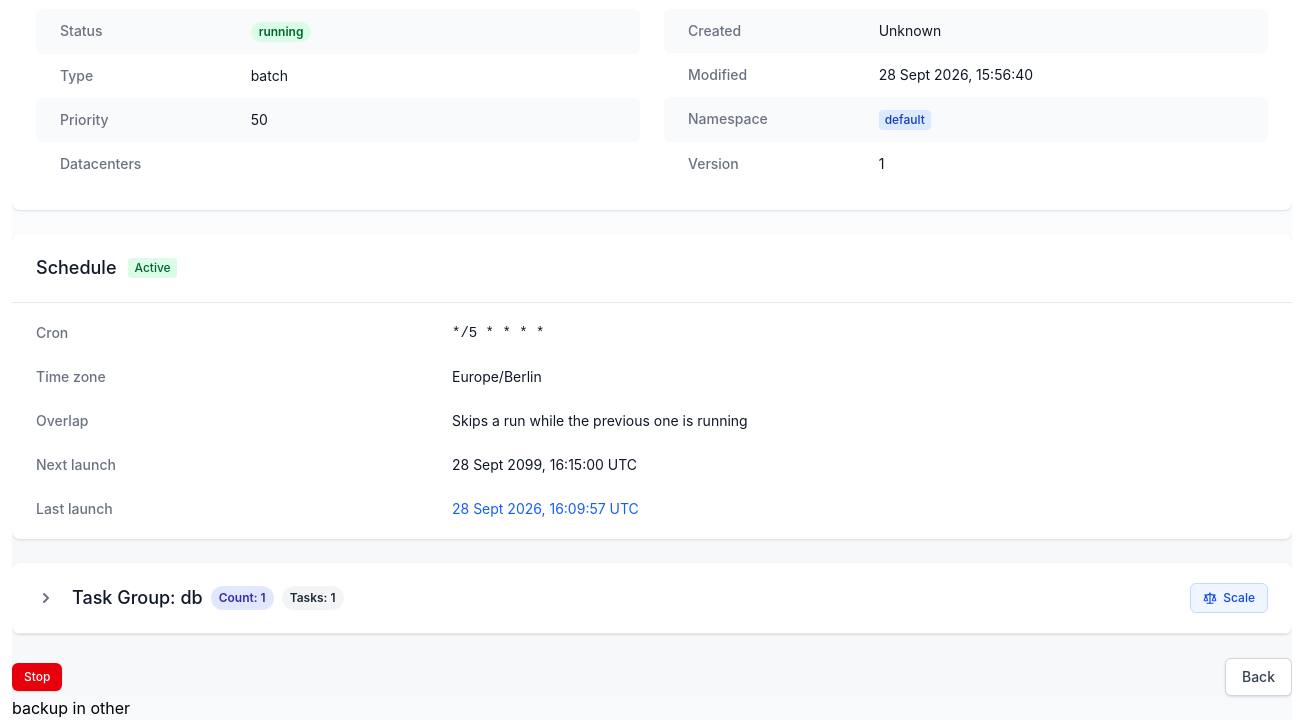
it: JobDetailPage for a periodic job › opening a job with the same ID in another namespace does not ask for launches there
(page scrolled)
Step 1. Click the link "backup in other" → (71, 708), box [12,698,130,718]
(page scrolled)
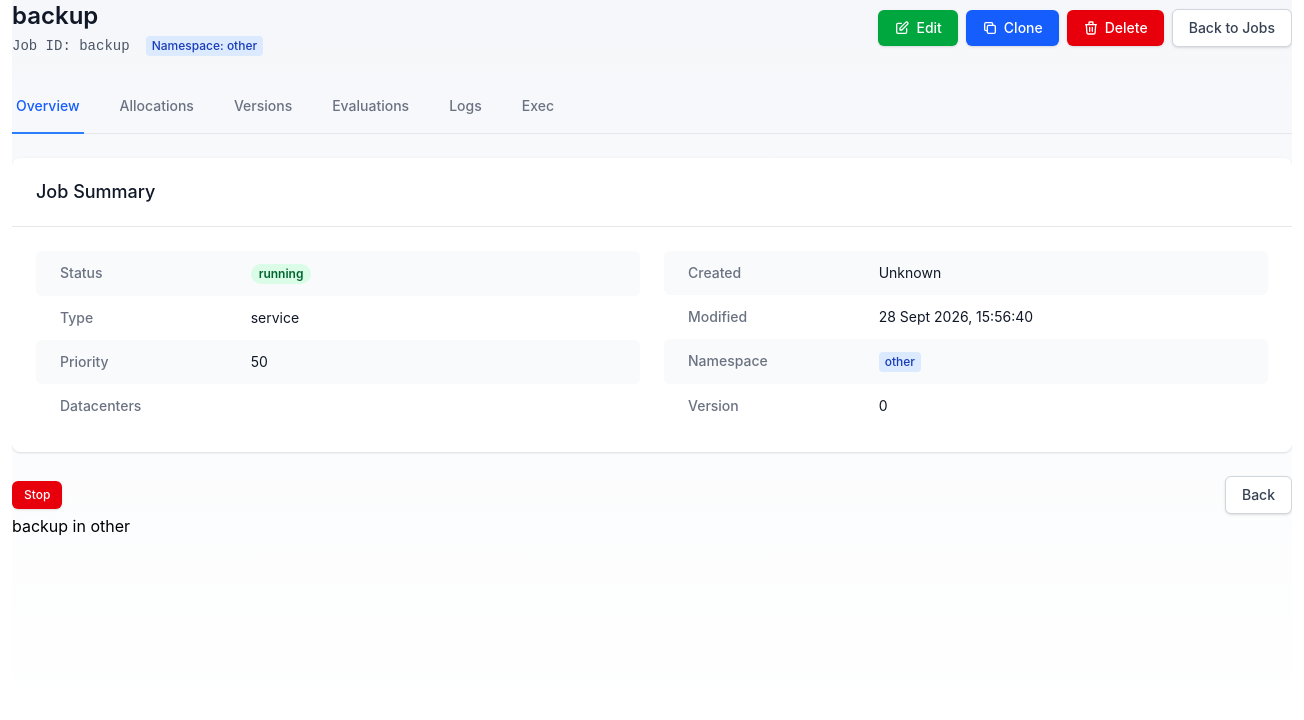
Result: the text "Namespace: other" is shown at [146,36,263,56]
